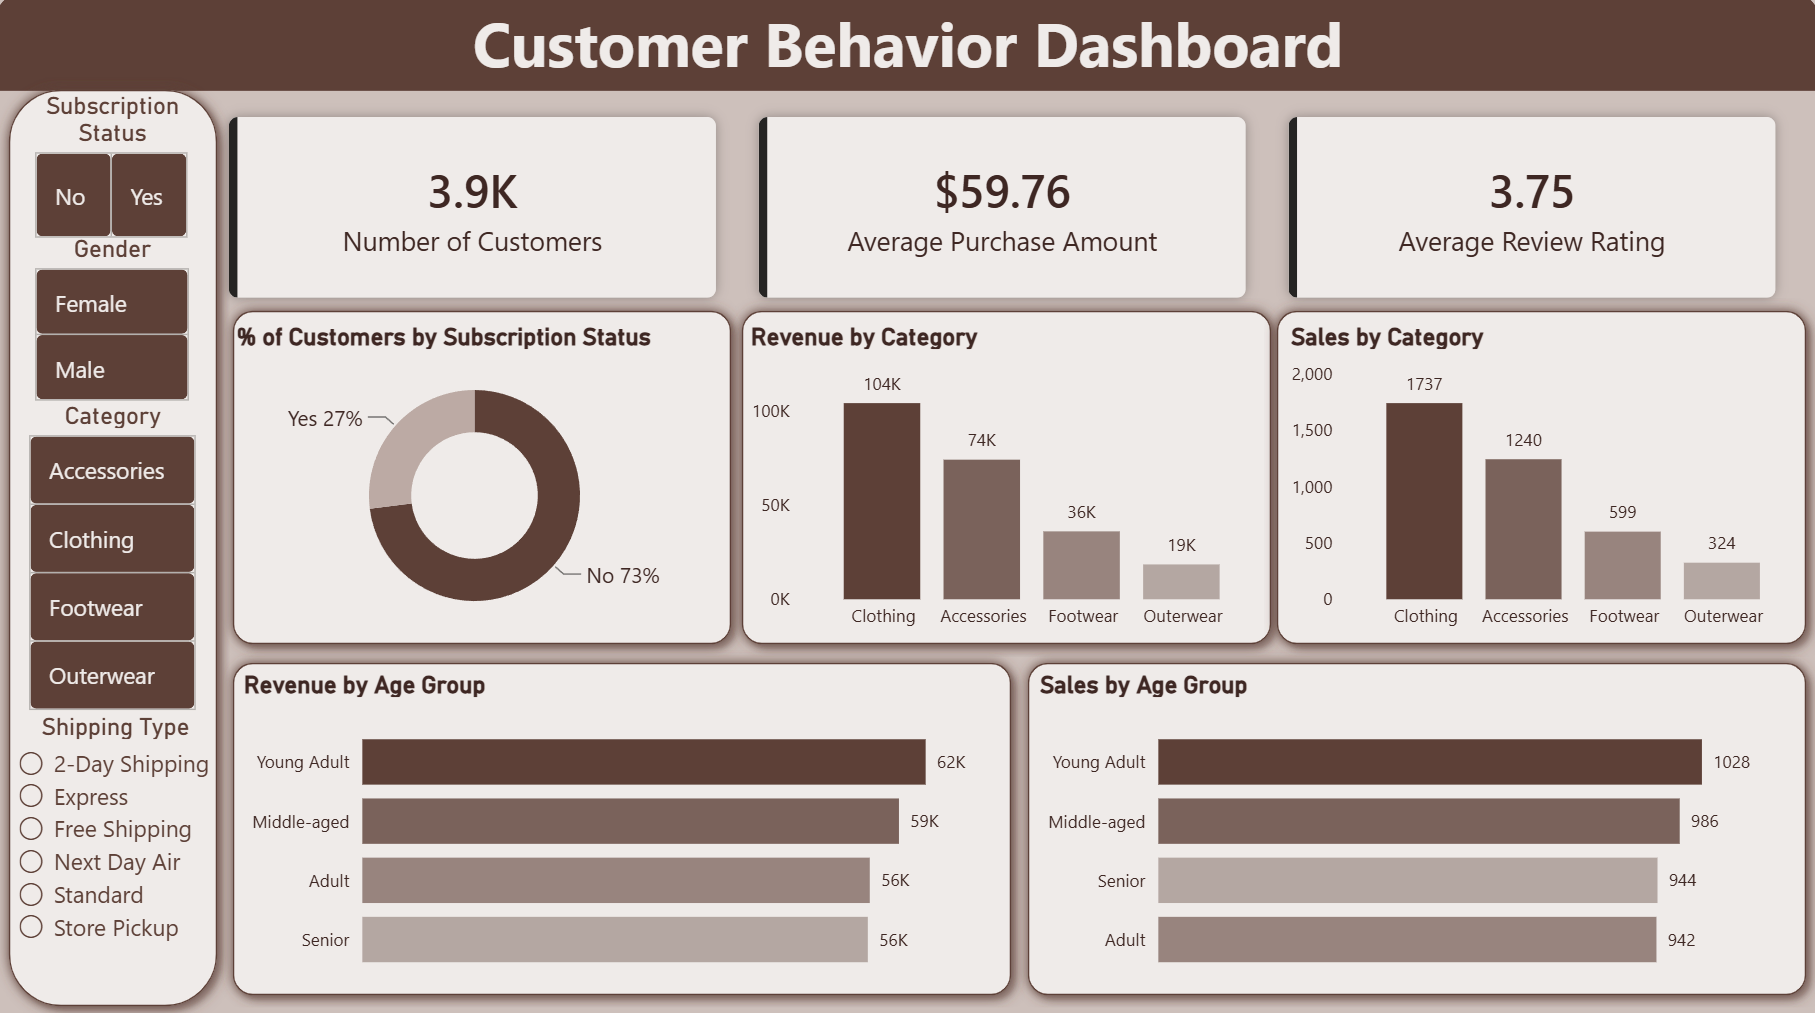

Layout of this report page (visuals, bound fields, positions):
{"tool":"powerbi","page":{"name":"Customer","canvas":[1280,720],"ordinal":0},"visuals":[{"type":"cardVisual","fields":{"Data":["customer_shopping_behavior.Number of Customers","customer_shopping_behavior.Average Purchase Amount","customer_shopping_behavior.Average Review Rating"]},"box":[135.5,58.3,1144.5,184],"z":0},{"type":"shape","box":[157.3,213.5,367.9,252.1],"z":1000},{"type":"shape","box":[0,0,1280,68.1],"z":2000},{"type":"textbox","box":[226.8,0,827.1,86.4],"z":3000},{"type":"donutChart","title":"% of Customers by Subscription Status","fields":{"Category":["customer_shopping_behavior.Subscription Status"],"Y":["CountNonNull(customer_shopping_behavior.Customer ID)"]},"box":[164.3,230.3,343.3,224.7],"z":4000},{"type":"shape","box":[514.7,213.5,389.7,252.1],"z":5000},{"type":"shape","box":[890.3,213.5,389.7,252.1],"z":6000},{"type":"clusteredColumnChart","title":"Revenue by Category","fields":{"Y":["Sum(customer_shopping_behavior.Purchase Amount ($))"],"Category":["customer_shopping_behavior.Category"]},"box":[525.2,230.3,369.3,224.7],"z":7000},{"type":"clusteredColumnChart","title":"Sales by Category","fields":{"Category":["customer_shopping_behavior.Category"],"Y":["CountNonNull(customer_shopping_behavior.Customer ID)"]},"box":[904.4,230.3,369.3,224.7],"z":8000},{"type":"shape","box":[0,58.3,164.3,661.4],"z":9000},{"type":"advancedSlicerVisual","fields":{"Values":["customer_shopping_behavior.Subscription Status"]},"box":[22.5,68.1,118.7,108.1],"z":10000},{"type":"advancedSlicerVisual","fields":{"Values":["customer_shopping_behavior.Gender"]},"box":[22.5,168.5,118.7,122.9],"z":11000},{"type":"advancedSlicerVisual","fields":{"Values":["customer_shopping_behavior.Category"]},"box":[18.3,285.8,127.8,223.3],"z":12000},{"type":"listSlicer","fields":{"Values":["customer_shopping_behavior.Shipping Type"]},"box":[10.5,504.1,146.7,215.6],"z":12001},{"type":"shape","box":[157.3,460.6,564.5,251.4],"z":12003},{"type":"clusteredBarChart","title":"Revenue by Age Group","fields":{"Y":["Sum(customer_shopping_behavior.Purchase Amount ($))"],"Category":["customer_shopping_behavior.Age Group"]},"box":[169.2,474.6,538.5,228.2],"z":12004},{"type":"shape","box":[715.5,460.6,564.5,251.4],"z":12005},{"type":"clusteredBarChart","title":"Sales by Age Group","fields":{"Category":["customer_shopping_behavior.Age Group"],"Y":["CountNonNull(customer_shopping_behavior.Customer ID)"]},"box":[728.1,474.6,538.5,228.2],"z":12006}]}

Visuals, with their boxes in screenshot pixels (x1, y1, x2, y2), scaled from the page's 1280x720 canvas onto the 1815x1013 screenshot:
cardVisual - customer_shopping_behavior.Number of Customers x customer_shopping_behavior.Average Purchase Amount: {"x1": 192, "y1": 82, "x2": 1814, "y2": 341}
shape: {"x1": 223, "y1": 300, "x2": 745, "y2": 655}
shape: {"x1": 0, "y1": 0, "x2": 1814, "y2": 96}
textbox: {"x1": 322, "y1": 0, "x2": 1494, "y2": 122}
"% of Customers by Subscription Status" donutChart: {"x1": 233, "y1": 324, "x2": 720, "y2": 640}
shape: {"x1": 730, "y1": 300, "x2": 1282, "y2": 655}
shape: {"x1": 1262, "y1": 300, "x2": 1814, "y2": 655}
"Revenue by Category" clusteredColumnChart: {"x1": 745, "y1": 324, "x2": 1268, "y2": 640}
"Sales by Category" clusteredColumnChart: {"x1": 1282, "y1": 324, "x2": 1806, "y2": 640}
shape: {"x1": 0, "y1": 82, "x2": 233, "y2": 1012}
advancedSlicerVisual - customer_shopping_behavior.Subscription Status: {"x1": 32, "y1": 96, "x2": 200, "y2": 248}
advancedSlicerVisual - customer_shopping_behavior.Gender: {"x1": 32, "y1": 237, "x2": 200, "y2": 410}
advancedSlicerVisual - customer_shopping_behavior.Category: {"x1": 26, "y1": 402, "x2": 207, "y2": 716}
listSlicer - customer_shopping_behavior.Shipping Type: {"x1": 15, "y1": 709, "x2": 223, "y2": 1012}
shape: {"x1": 223, "y1": 648, "x2": 1023, "y2": 1002}
"Revenue by Age Group" clusteredBarChart: {"x1": 240, "y1": 668, "x2": 1003, "y2": 989}
shape: {"x1": 1015, "y1": 648, "x2": 1814, "y2": 1002}
"Sales by Age Group" clusteredBarChart: {"x1": 1032, "y1": 668, "x2": 1796, "y2": 989}
